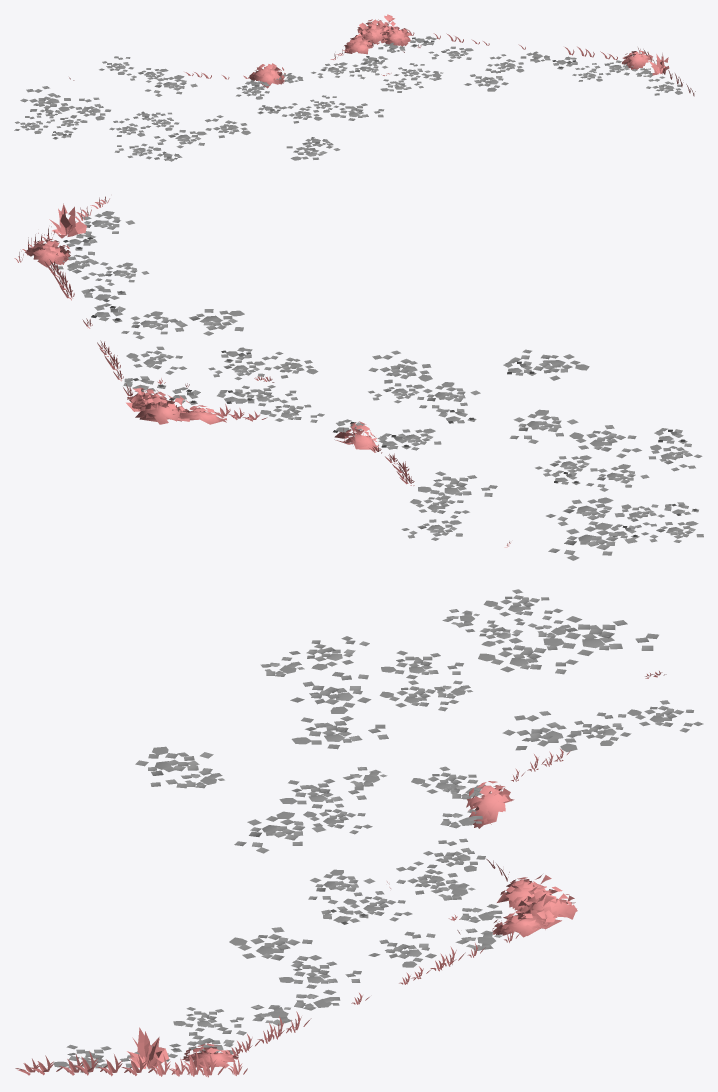
File: S_Envi_Fyz_Grass_Merge_03c.gltf
The picture shows the model from 3 angles, top to bottom: view 1: azimuth 30°, elevation 25°; view 2: azimuth 150°, elevation 25°; view 3: azimuth 270°, elevation 25°; orthographic projection. The views are drawn at different scales.
Visible parts, largest first — view 1: S_Envi_Fyz_Grass_Merge_03c; view 2: S_Envi_Fyz_Grass_Merge_03c; view 3: S_Envi_Fyz_Grass_Merge_03c.
Part boxes in pixels (x1=…): S_Envi_Fyz_Grass_Merge_03c: x1=14, y1=14, x2=695, y2=161; S_Envi_Fyz_Grass_Merge_03c: x1=14, y1=196, x2=703, y2=560; S_Envi_Fyz_Grass_Merge_03c: x1=15, y1=589, x2=703, y2=1077.
Bounding box in the file's own units: 15.83 × 0.7791 × 9.45.
